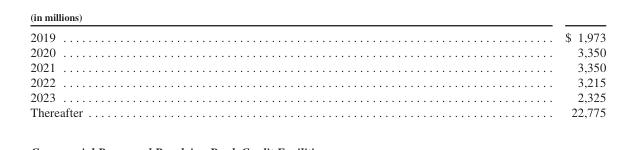table: (29, 29, 605, 119)
table column: (29, 29, 323, 119), (323, 29, 605, 119)
table row: (29, 58, 605, 74), (29, 43, 605, 58), (29, 74, 605, 89), (29, 89, 605, 104), (29, 104, 605, 119), (29, 29, 605, 43)
